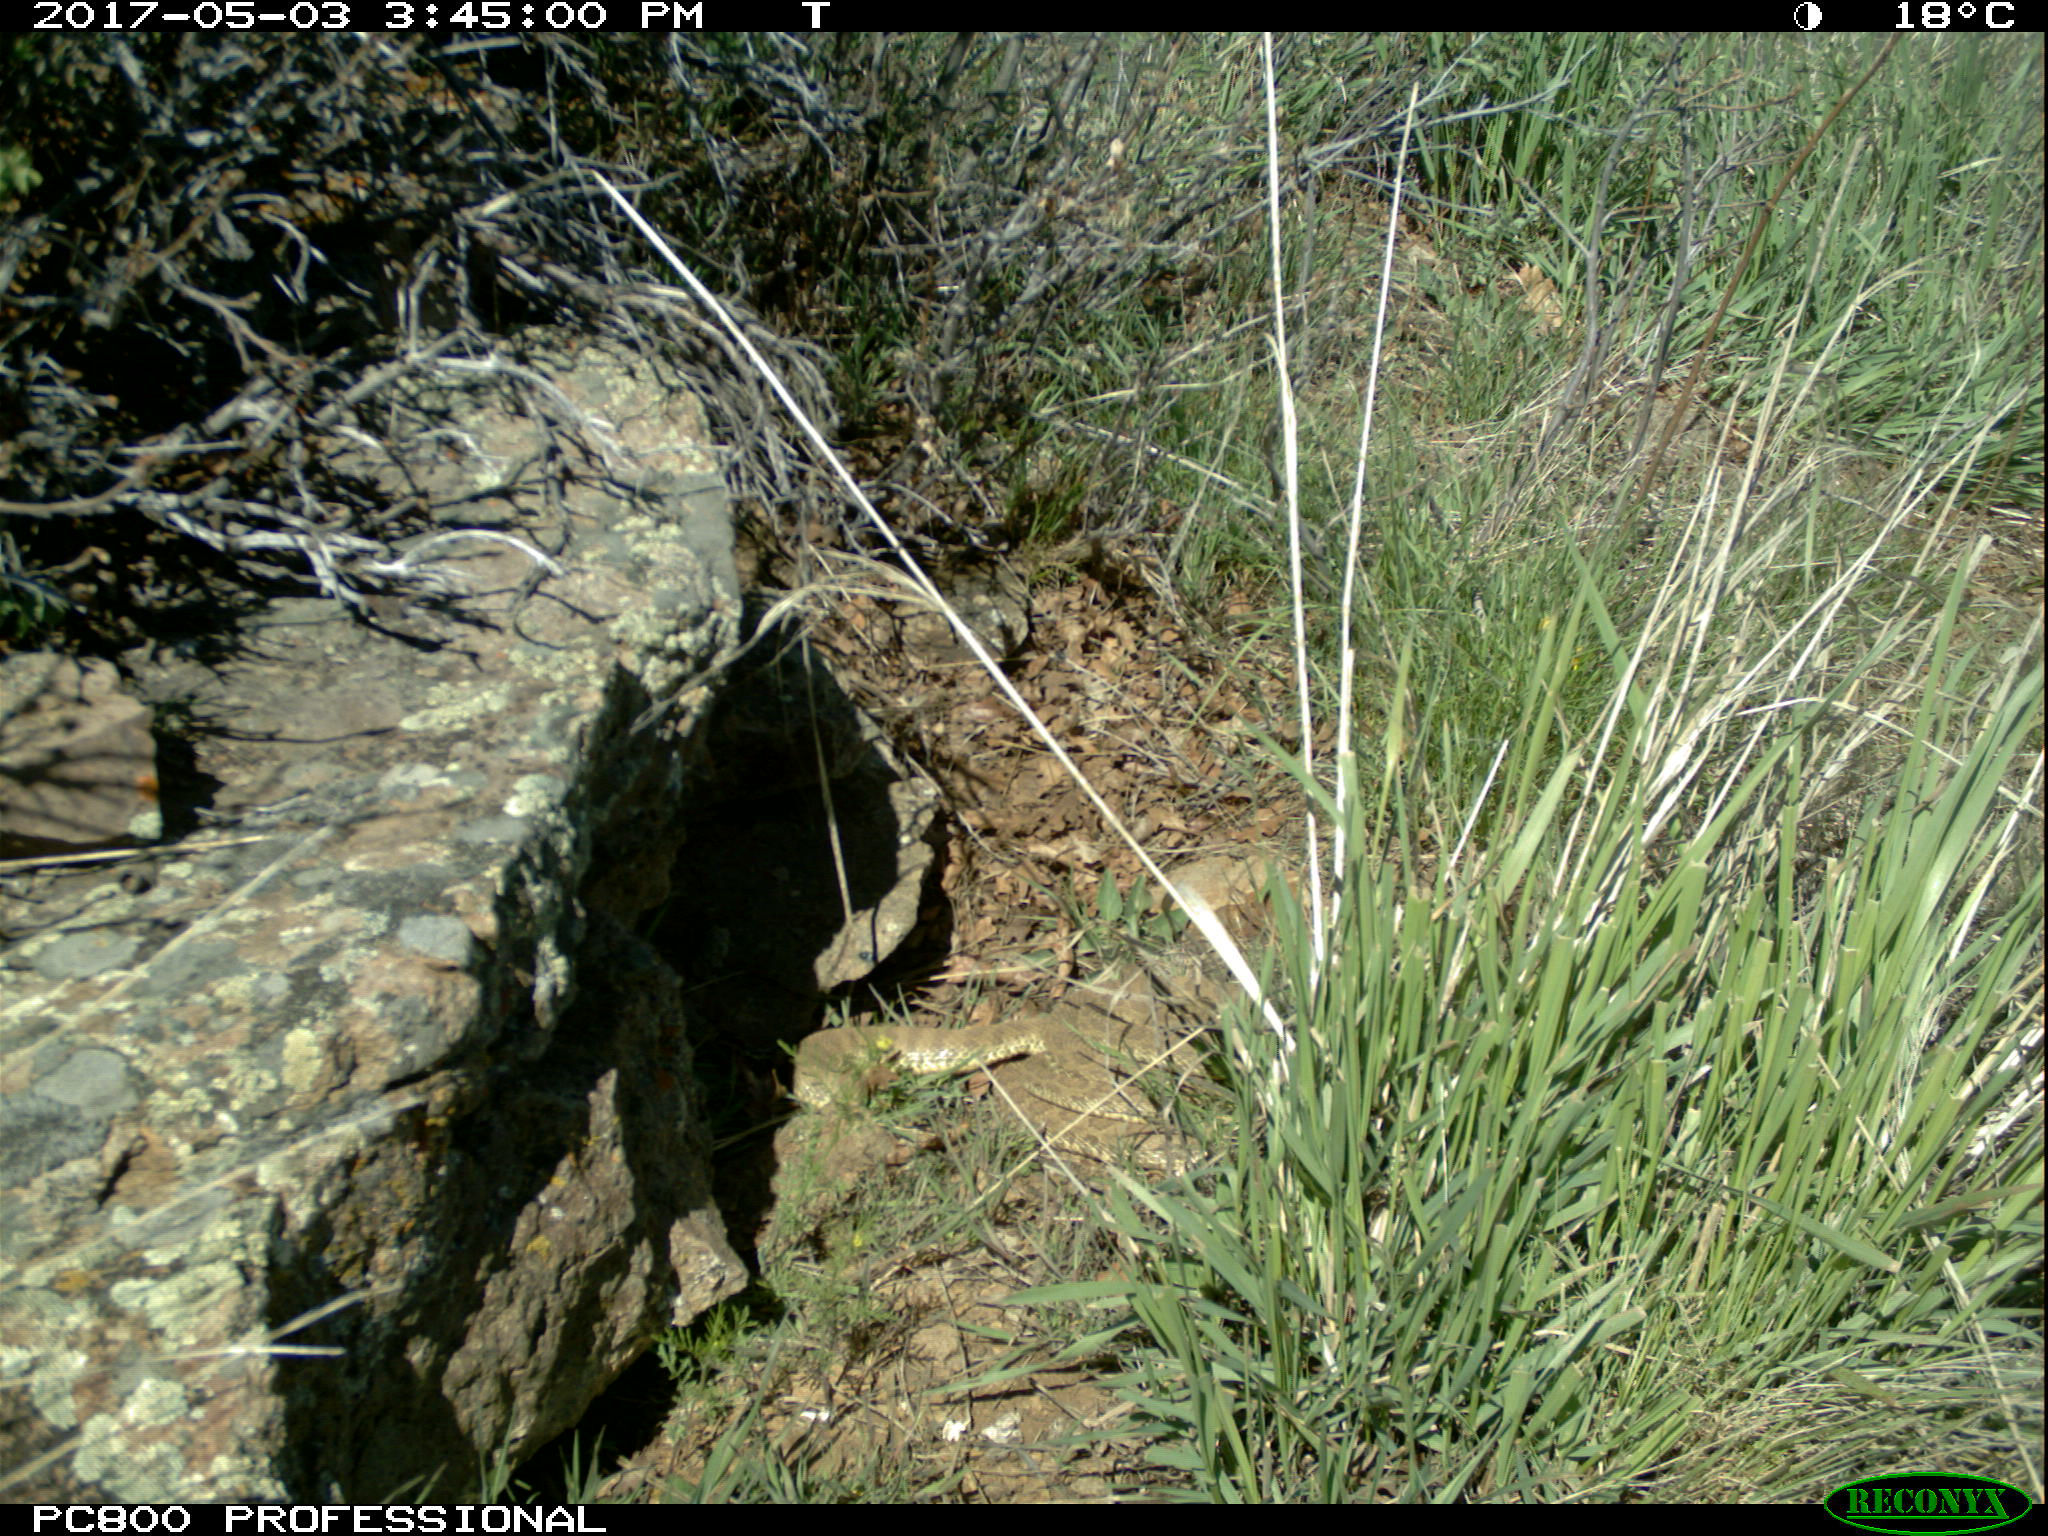snake: (784, 979, 1214, 1170)
